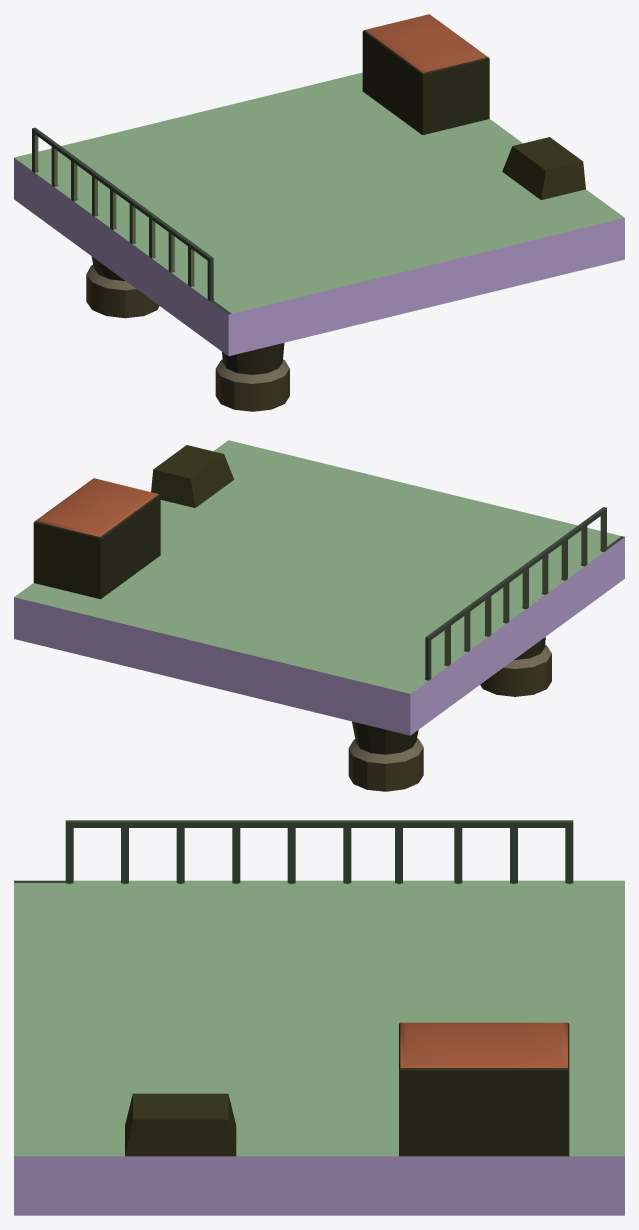
The model's file is MeshPL.fbx.
3 renders of one model, top to bottom at view 1: azimuth 30°, elevation 25°; view 2: azimuth 150°, elevation 25°; view 3: azimuth 270°, elevation 25°, orthographic. The views are drawn at different scales.
Visible parts, largest first — view 1: PLatFly; view 2: PLatFly; view 3: PLatFly.
Part boxes in pixels (x1,y1,x2,y2): PLatFly: [14, 14, 624, 411]; PLatFly: [14, 440, 624, 791]; PLatFly: [14, 820, 624, 1215].
Size of the model in its own units: 495 by 230 by 464.
